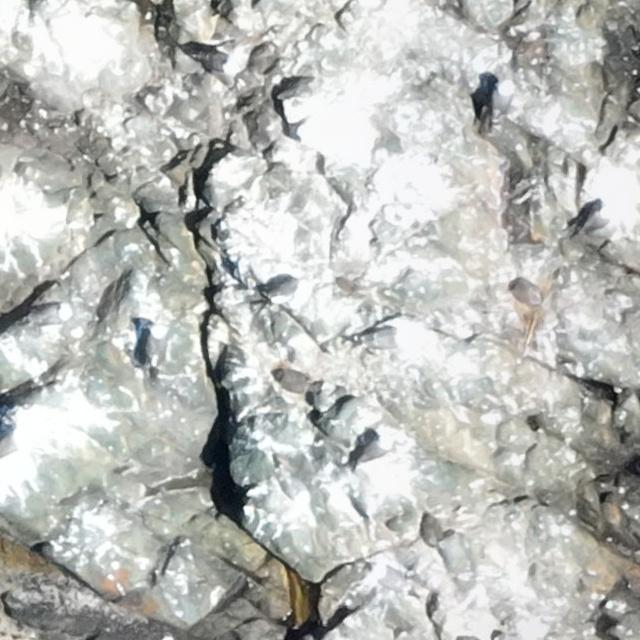umineko: (278, 462, 312, 509), (268, 279, 310, 310), (355, 433, 393, 467), (193, 48, 239, 76), (362, 327, 410, 353), (148, 324, 168, 375), (32, 298, 70, 323), (494, 83, 510, 118)
